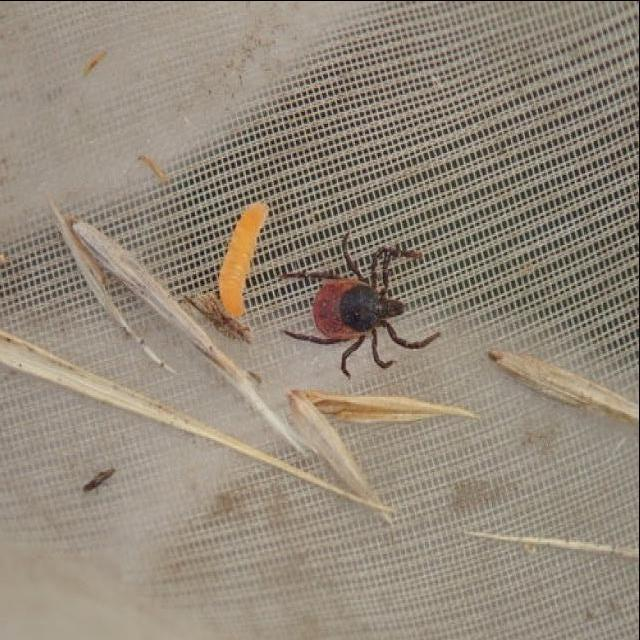Ixodes Ricinus-F: (280, 230, 440, 377)
